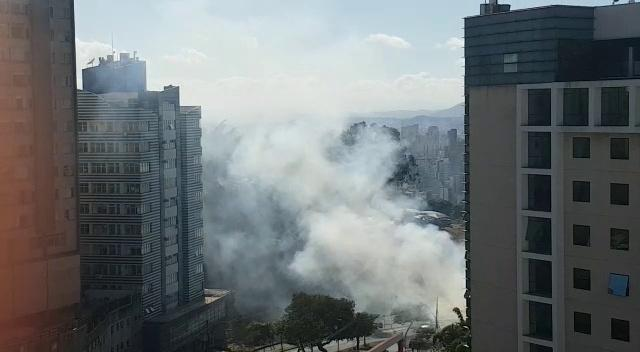smoke: (247, 159, 388, 283)
